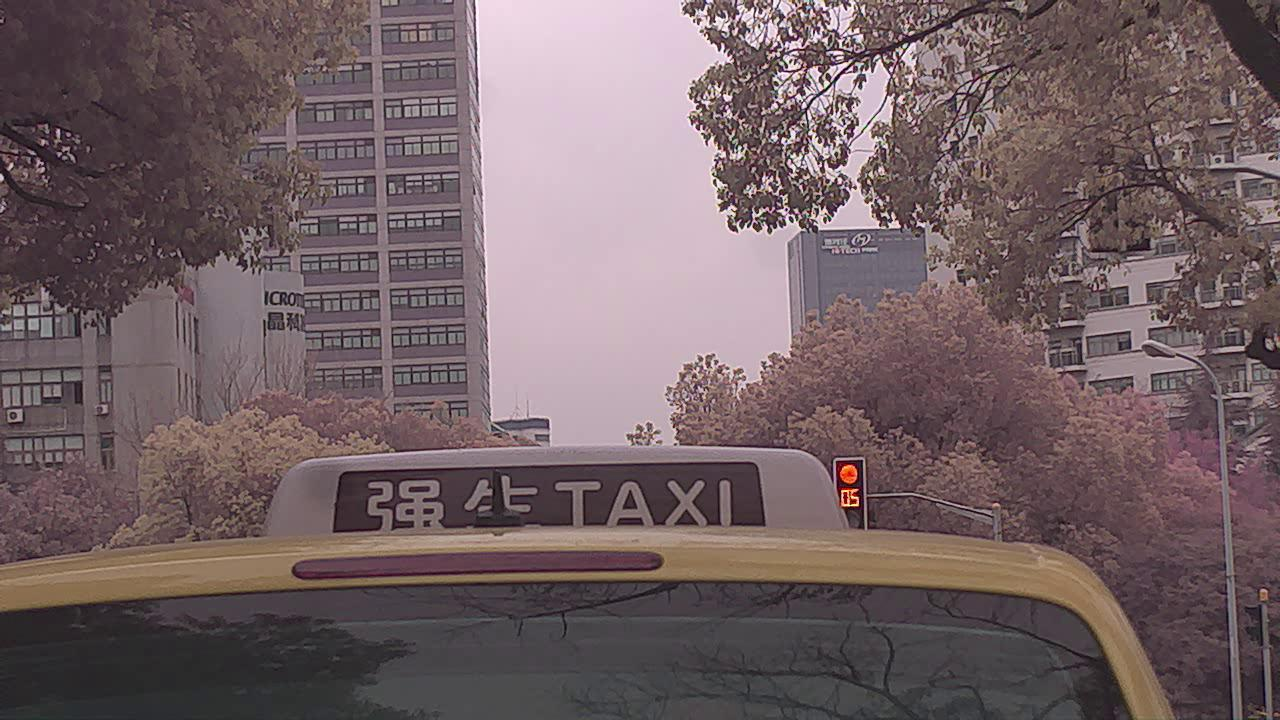traffic_light: (837, 459, 866, 527)
